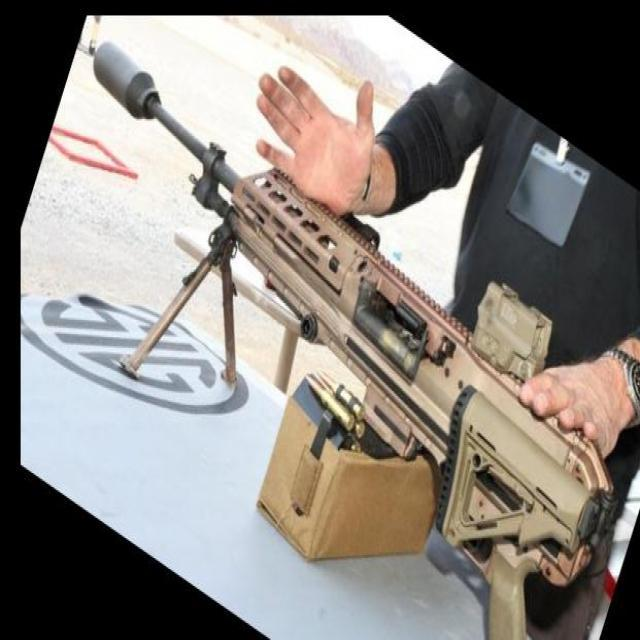weapon: (92, 40, 618, 640)
